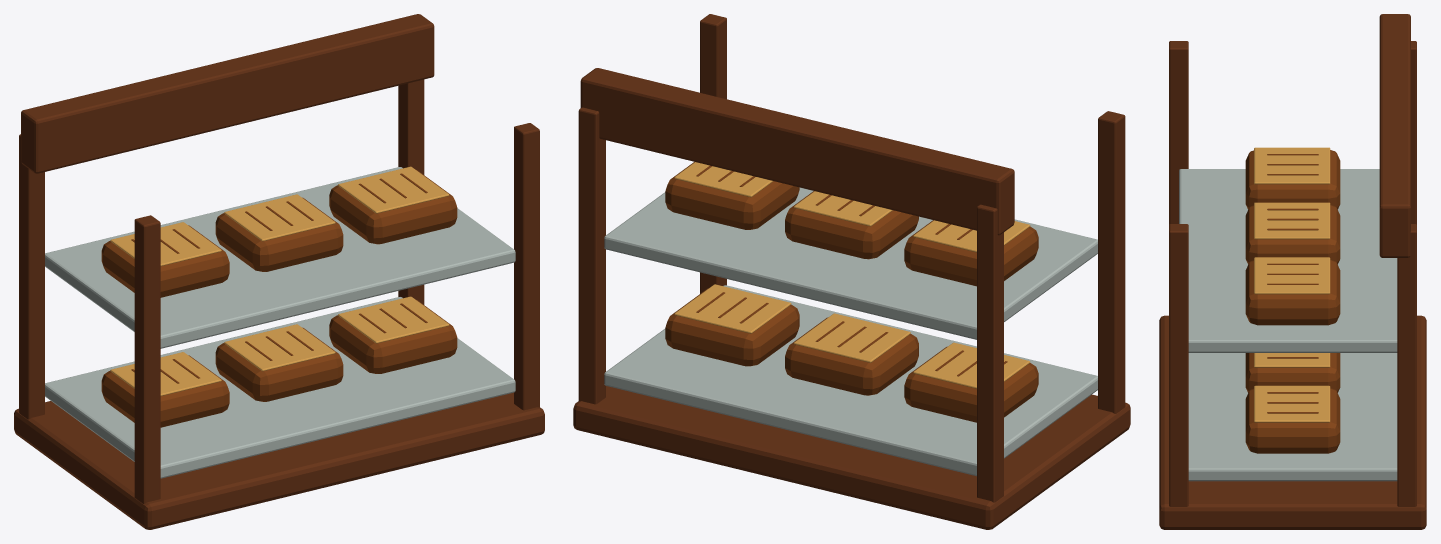
The picture shows the model from 3 angles, left to right: view 1: azimuth 30°, elevation 25°; view 2: azimuth 150°, elevation 25°; view 3: azimuth 270°, elevation 25°; orthographic projection. The views are drawn at different scales.
Parts seen in each view (by area): view 1: DISPLAY_Header, DISPLAY_Base, SHELF_Tray.001, SHELF_Tray, FRAME_Post, FRAME_Post.002, FRAME_Post.001, TOAST_Crust.004, TOAST_Crust.005, TOAST_Crust.001, TOAST_Crust.002, TOAST_Crust (+8 smaller); view 2: DISPLAY_Header, DISPLAY_Base, SHELF_Tray, SHELF_Tray.001, FRAME_Post, FRAME_Post.003, FRAME_Post.001, TOAST_Crust.002, TOAST_Crust.001, TOAST_Crust.005, TOAST_Crust.004, TOAST_Crust (+8 smaller); view 3: SHELF_Tray.001, SHELF_Tray, DISPLAY_Base, DISPLAY_Header, FRAME_Post.002, FRAME_Post.003, TOAST_Crust.002, TOAST_Crust.005, FRAME_Post, TOAST_Crumb.003, TOAST_Crumb.004, TOAST_Crumb.002 (+6 smaller).
Part boxes in pixels (x1,y1,x2,y2): DISPLAY_Header: (21, 14, 434, 173); DISPLAY_Base: (14, 392, 544, 529); SHELF_Tray.001: (45, 167, 515, 348); SHELF_Tray: (45, 297, 515, 478); FRAME_Post: (134, 215, 160, 503); FRAME_Post.002: (514, 123, 539, 410); FRAME_Post.001: (19, 134, 44, 419); TOAST_Crust.004: (215, 197, 343, 271); TOAST_Crust.005: (329, 170, 457, 244); TOAST_Crust.001: (215, 327, 343, 401); TOAST_Crust.002: (329, 300, 457, 373); TOAST_Crust: (101, 355, 229, 427); DISPLAY_Header: (580, 68, 1014, 235); DISPLAY_Base: (573, 386, 1130, 529); SHELF_Tray: (604, 285, 1097, 476); SHELF_Tray.001: (604, 187, 1097, 339); FRAME_Post: (1098, 111, 1125, 413); FRAME_Post.003: (578, 107, 605, 404); FRAME_Post.001: (977, 204, 1003, 502); TOAST_Crust.002: (665, 288, 799, 366); TOAST_Crust.001: (785, 317, 918, 395); TOAST_Crust.005: (665, 162, 799, 229); TOAST_Crust.004: (785, 191, 918, 259); TOAST_Crust: (904, 346, 1038, 422); SHELF_Tray.001: (1179, 169, 1397, 352); SHELF_Tray: (1188, 353, 1397, 481); DISPLAY_Base: (1159, 315, 1426, 529); DISPLAY_Header: (1379, 14, 1410, 257); FRAME_Post.002: (1169, 224, 1188, 506); FRAME_Post.003: (1397, 224, 1416, 506); TOAST_Crust.002: (1245, 388, 1340, 453); TOAST_Crust.005: (1245, 260, 1340, 325); FRAME_Post: (1169, 41, 1188, 224); TOAST_Crumb.003: (1254, 147, 1330, 184); TOAST_Crumb.004: (1254, 202, 1330, 239); TOAST_Crumb.002: (1254, 385, 1330, 422).
Size of the model in its own units: 0.58 by 0.4575 by 0.34.
